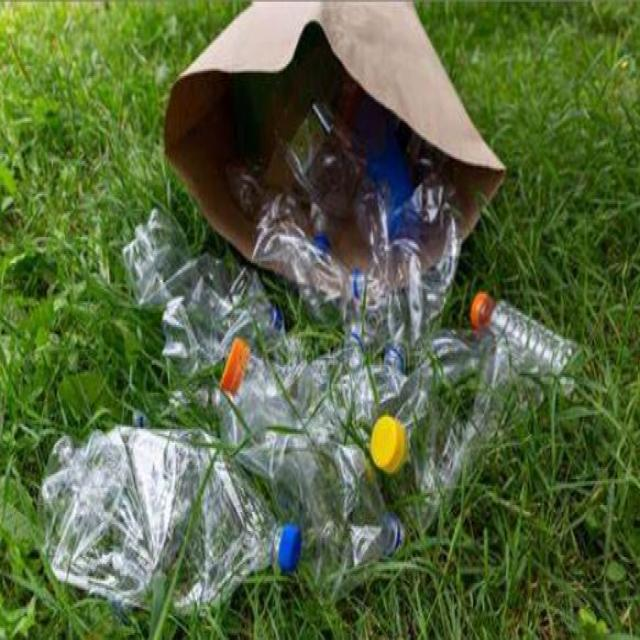dry: (152, 6, 527, 321), (35, 423, 309, 614), (468, 277, 590, 389)
